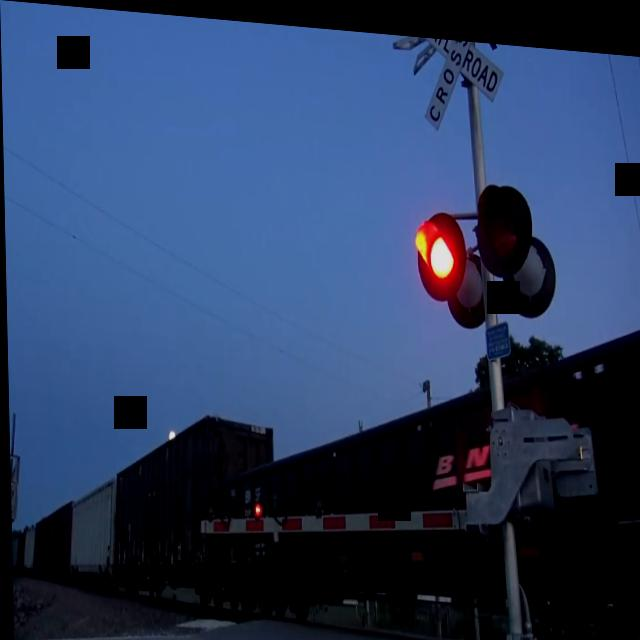gondola: (203, 251, 640, 640), (101, 387, 277, 612)
